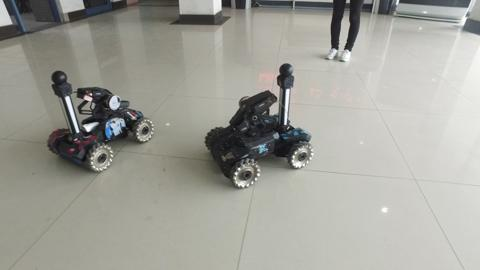chariot: (200, 61, 318, 193), (37, 66, 158, 182)
